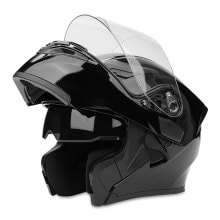with_helmet: (10, 12, 210, 207)
